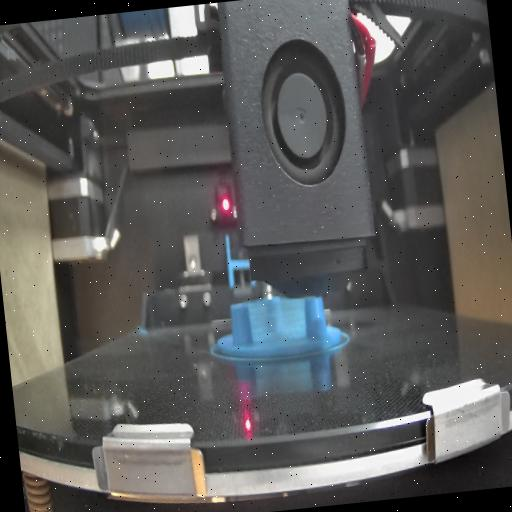stringing: (251, 298, 310, 342)
